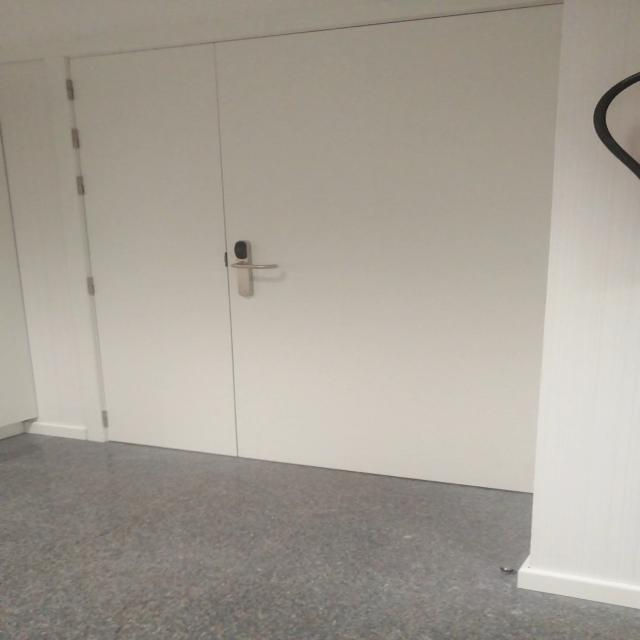door_handle: (224, 260, 283, 272)
